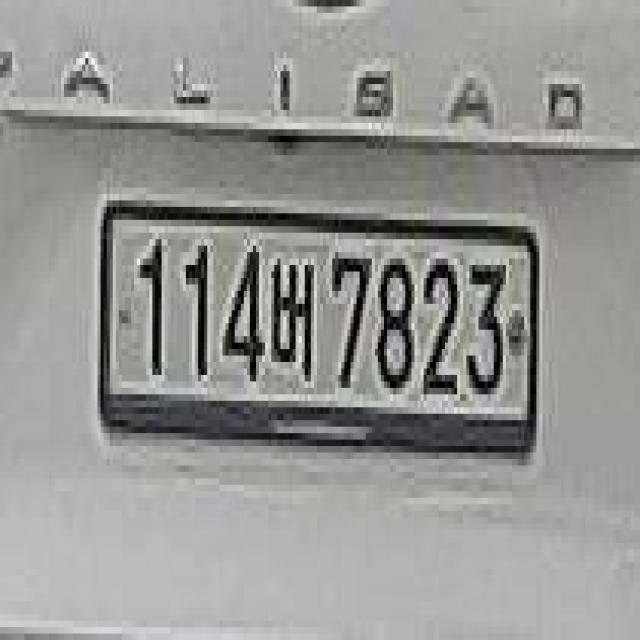illegal_plate: (95, 184, 543, 484)
